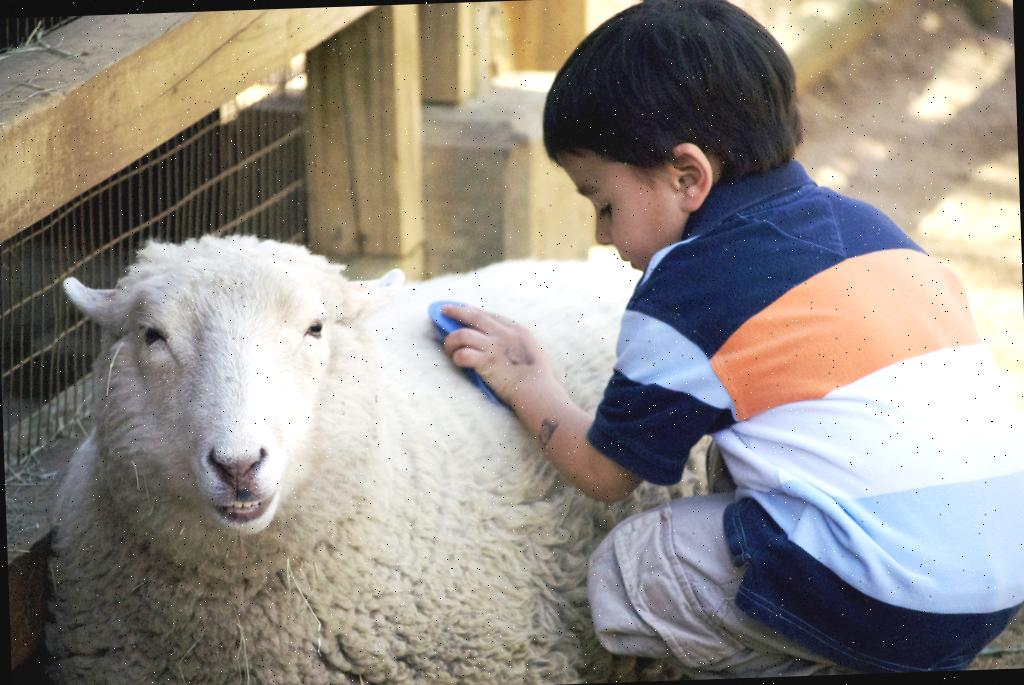Sheep: (22, 203, 645, 685)
